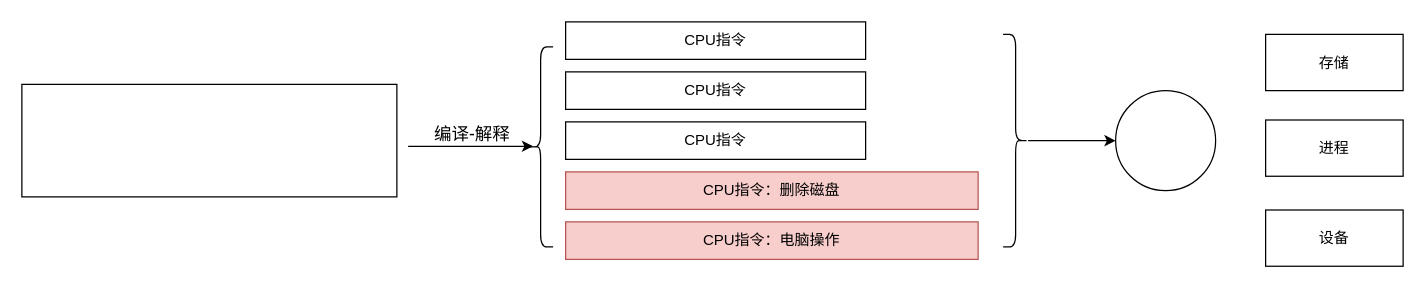
Image size: 1425x289. Some labels were removed from this diagram. Here are the shapes that lost their labels. From the top down, the centre of each, then its label:
At (209,140): "应用程序-比如商品微服务".
At (1165,140): "CPU".
